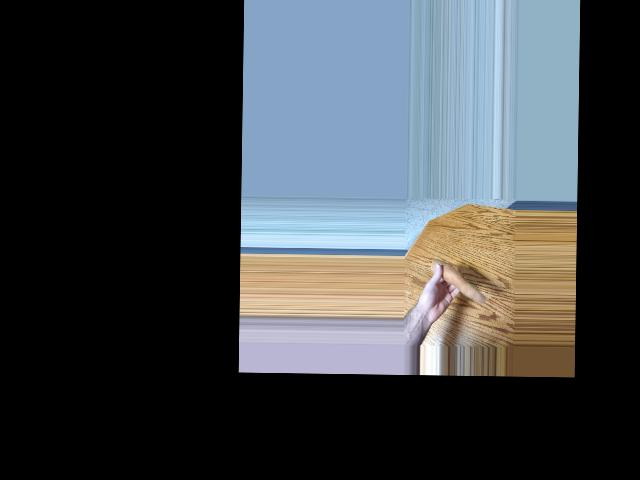sweet_potato: (430, 262, 485, 305)
